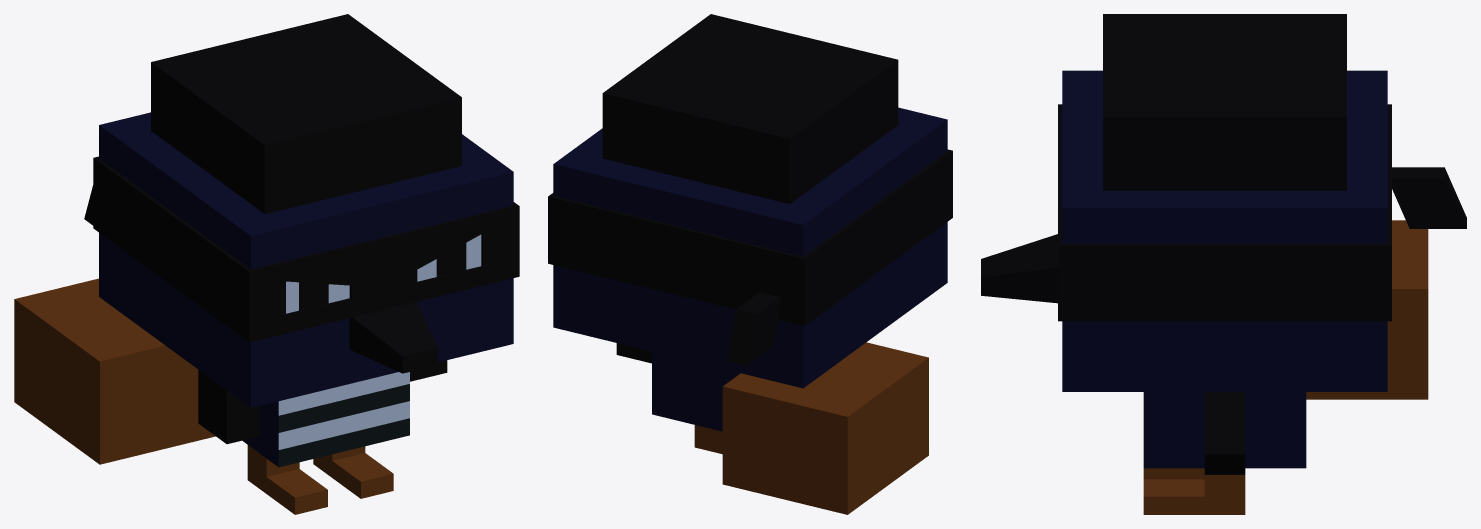
Rendered from magpie_combined.dae.
The picture shows the model from 3 angles, left to right: view 1: azimuth 30°, elevation 25°; view 2: azimuth 150°, elevation 25°; view 3: azimuth 270°, elevation 25°; orthographic projection. The views are drawn at different scales.
Parts seen in each view (by area): view 1: magpie_MSH; view 2: magpie_MSH; view 3: magpie_MSH.
Part boxes in pixels (bbox=[...]): magpie_MSH: bbox=[14, 14, 519, 514]; magpie_MSH: bbox=[548, 14, 952, 514]; magpie_MSH: bbox=[981, 14, 1466, 514].
Bounding box in the file's own units: 1.5 × 1.44 × 1.49.
